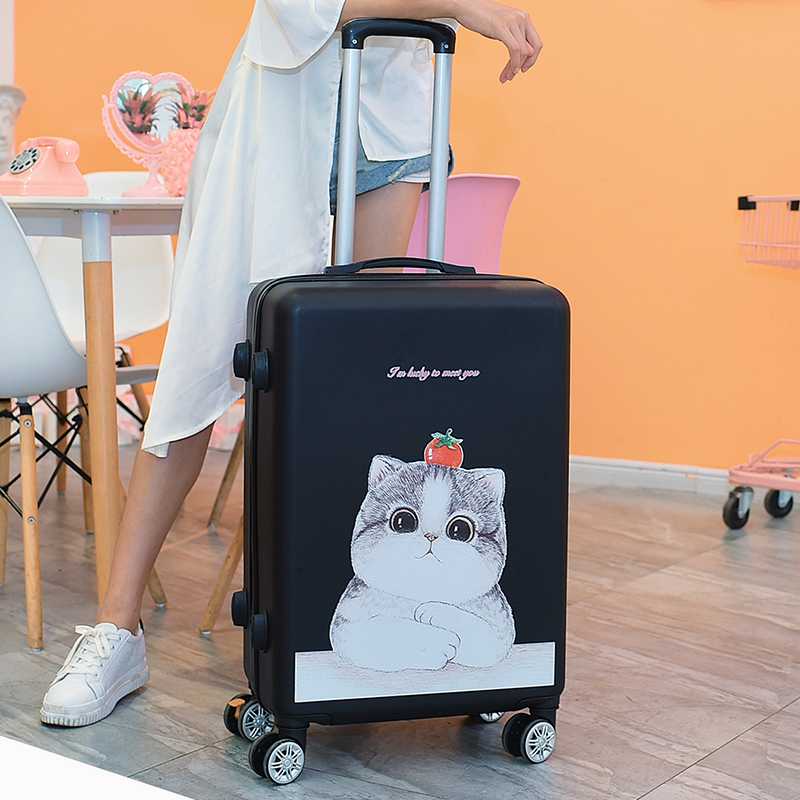box: (244, 276, 571, 722)
handle: (323, 256, 478, 277)
wheel: (248, 732, 305, 785), (502, 713, 556, 764), (223, 693, 275, 743)
